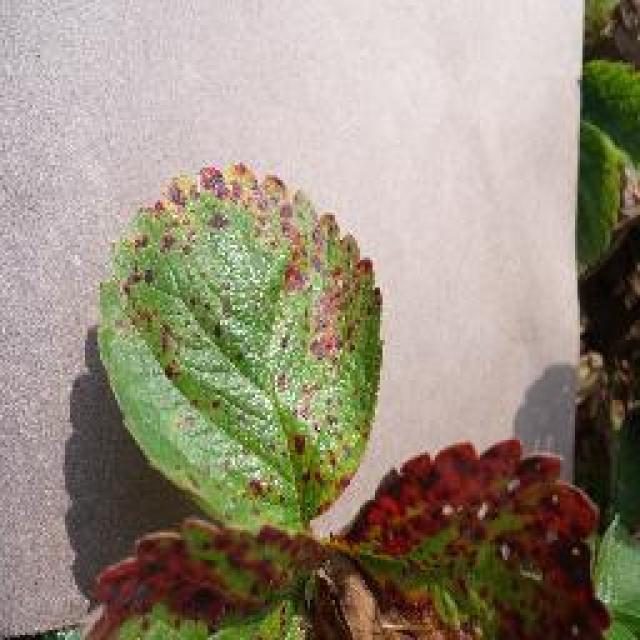Strawberry leaf scorch: (155, 205, 363, 417)
